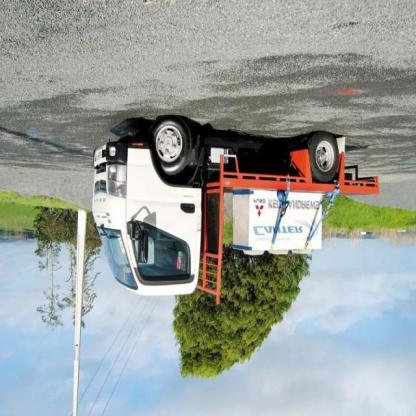truck: (91, 115, 381, 310)
